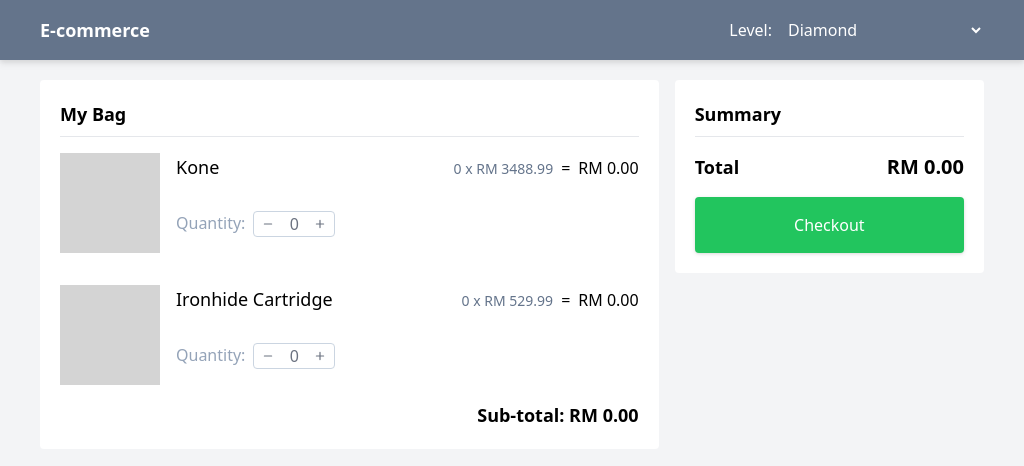
Scenario: clickin on - button increment quantity
Click the 1st button with test id "btn-plus": (320, 224) [306, 212, 334, 236]
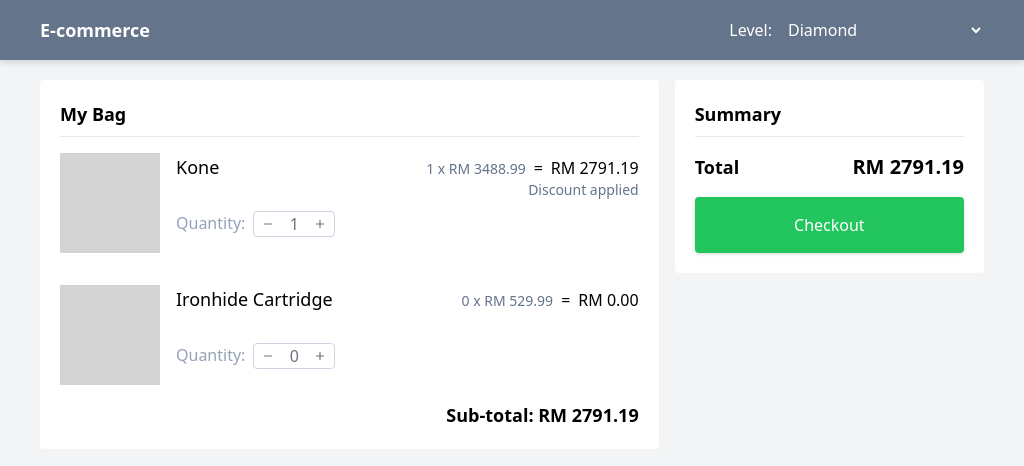
Now the text with test id "quantity" reads "1", box [290, 213, 299, 235]
Click the 1st button with test id "btn-minus": (268, 224) [254, 212, 282, 236]
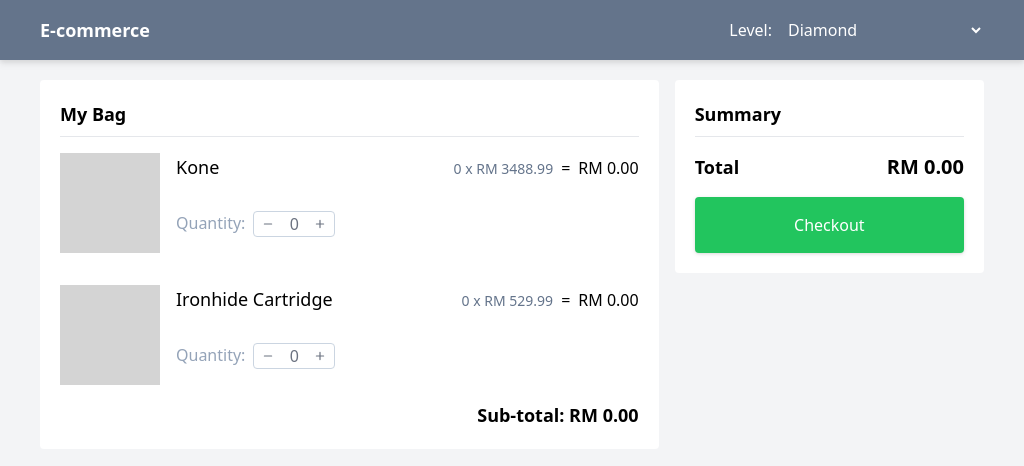
Now the text with test id "quantity" below "Kone" reads "0", box [290, 213, 299, 235]
